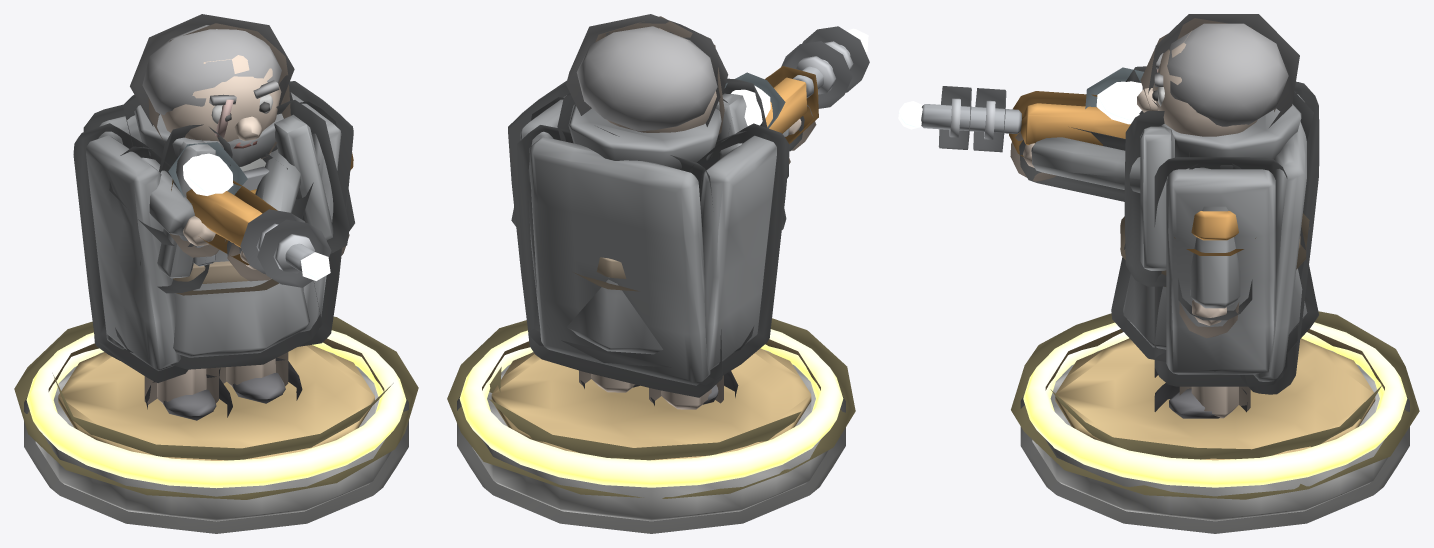
Rendered from vega.glb.
The picture shows the model from 3 angles, left to right: view 1: azimuth 30°, elevation 25°; view 2: azimuth 150°, elevation 25°; view 3: azimuth 270°, elevation 25°; orthographic projection.
Parts seen in each view (by area): view 1: M_Body, M_HeroVega, M_Body_Outline, M_HeroVega_Outline, M_Arm, M_Arm_Outline; view 2: M_Body, M_HeroVega, M_Body_Outline, M_HeroVega_Outline, M_Arm_Outline, M_Arm; view 3: M_Body, M_HeroVega, M_Body_Outline, M_HeroVega_Outline, M_Arm, M_Arm_Outline.
Part boxes in pixels (x1=…): M_Body: x1=86, y1=25, x2=341, y2=420; M_HeroVega: x1=26, y1=330, x2=406, y2=521; M_Body_Outline: x1=73, y1=14, x2=354, y2=417; M_HeroVega_Outline: x1=14, y1=316, x2=418, y2=533; M_Arm: x1=141, y1=149, x2=330, y2=280; M_Arm_Outline: x1=109, y1=142, x2=331, y2=287; M_Body: x1=520, y1=26, x2=776, y2=409; M_HeroVega: x1=459, y1=329, x2=843, y2=521; M_Body_Outline: x1=508, y1=14, x2=789, y2=405; M_HeroVega_Outline: x1=447, y1=318, x2=855, y2=533; M_Arm_Outline: x1=715, y1=26, x2=869, y2=177; M_Arm: x1=718, y1=28, x2=868, y2=159; M_Body: x1=1123, y1=23, x2=1307, y2=418; M_HeroVega: x1=1023, y1=322, x2=1407, y2=521; M_Body_Outline: x1=1111, y1=14, x2=1319, y2=412; M_HeroVega_Outline: x1=1011, y1=311, x2=1419, y2=533; M_Arm: x1=898, y1=81, x2=1210, y2=192; M_Arm_Outline: x1=938, y1=67, x2=1209, y2=201.
Bounding box in the file's own units: 1.79 × 2.11 × 2.28.
